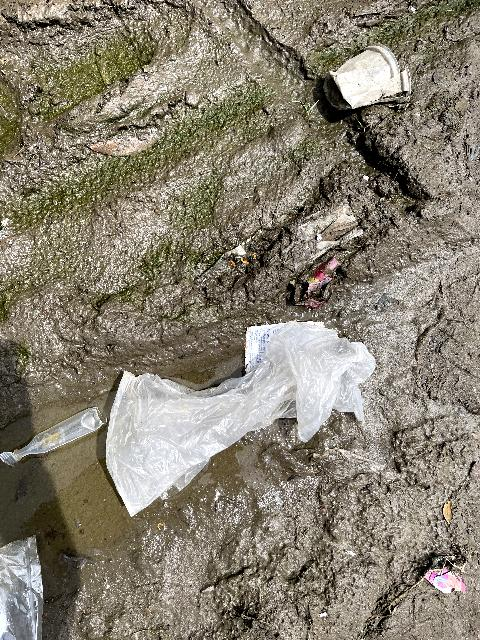polythene: (95, 298, 410, 532)
